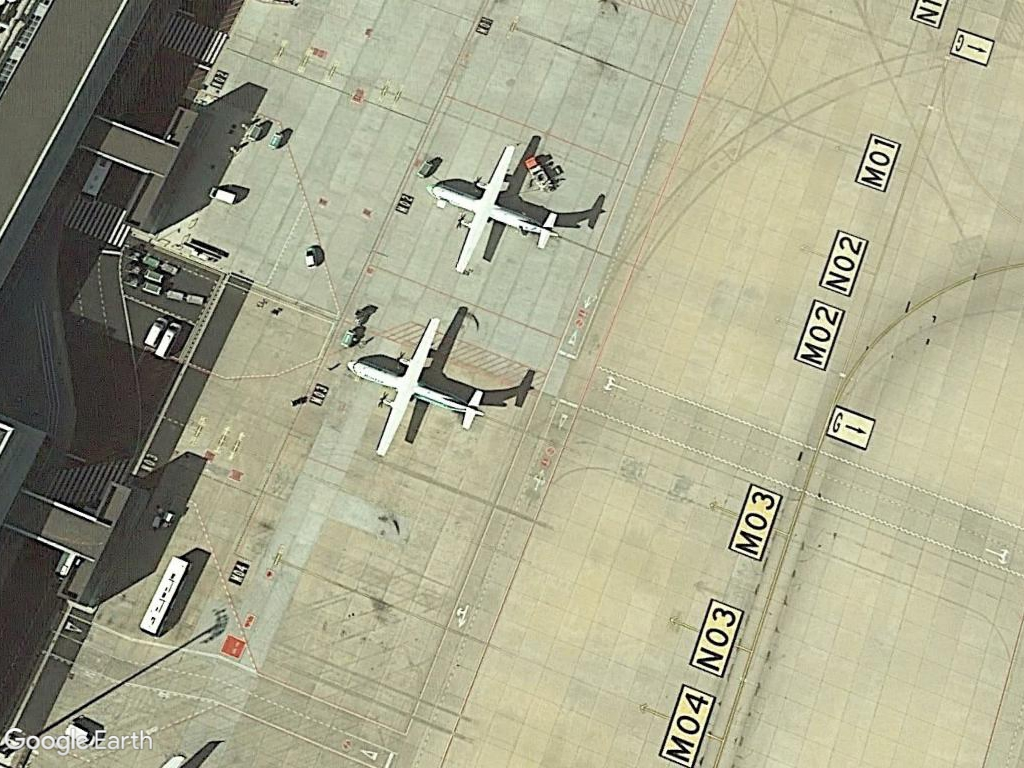bus: (131, 548, 196, 638)
propeller: (347, 308, 493, 459), (420, 137, 565, 278)
van: (142, 312, 170, 352), (204, 183, 242, 206)
